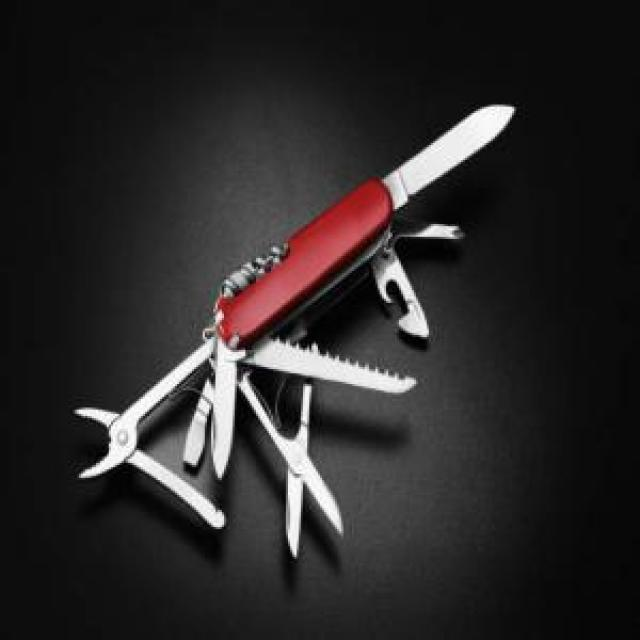knife: (75, 100, 527, 572)
